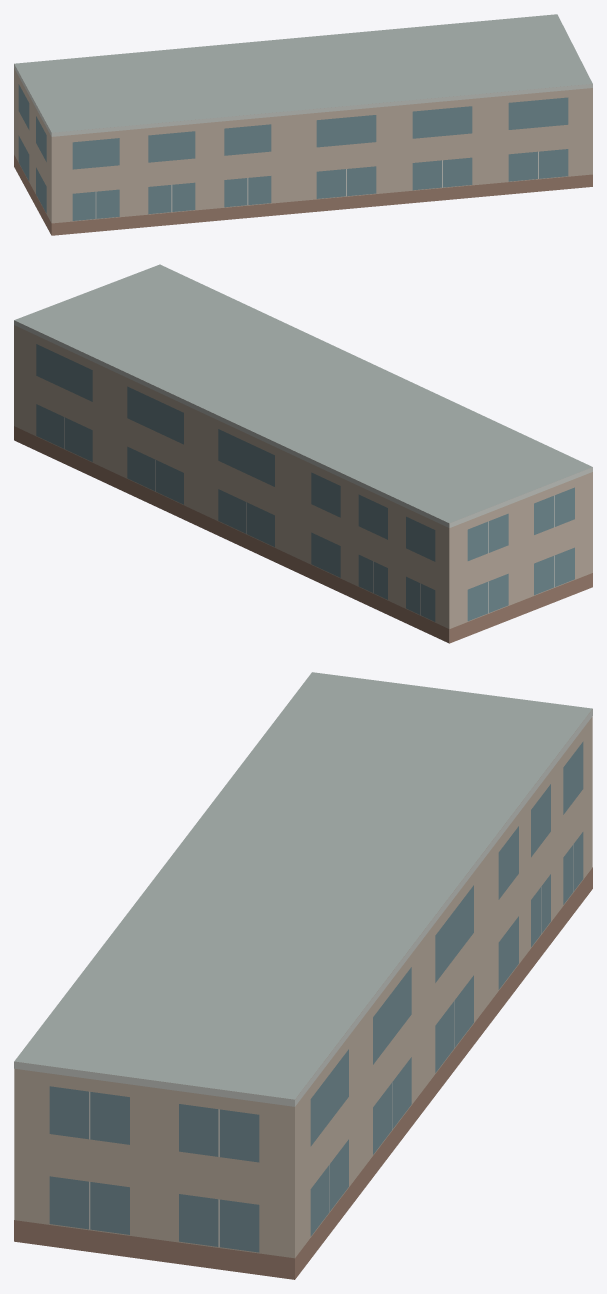
Rendered from survey-upis-32496833.glb.
3 views of the same model, one above another, from view 1: azimuth 30°, elevation 25°; view 2: azimuth 150°, elevation 25°; view 3: azimuth 270°, elevation 25° (orthographic). The views are drawn at different scales.
Parts seen in each view (by area): view 1: survey-upis-32496833.tmp; view 2: survey-upis-32496833.tmp; view 3: survey-upis-32496833.tmp.
Boxes of the visible parts, box(x1,y1,x2,y2) form: survey-upis-32496833.tmp: box(14, 14, 592, 235); survey-upis-32496833.tmp: box(14, 264, 592, 643); survey-upis-32496833.tmp: box(14, 672, 592, 1279).
Size of the model in its own units: 31.06 by 6.1 by 17.77.
